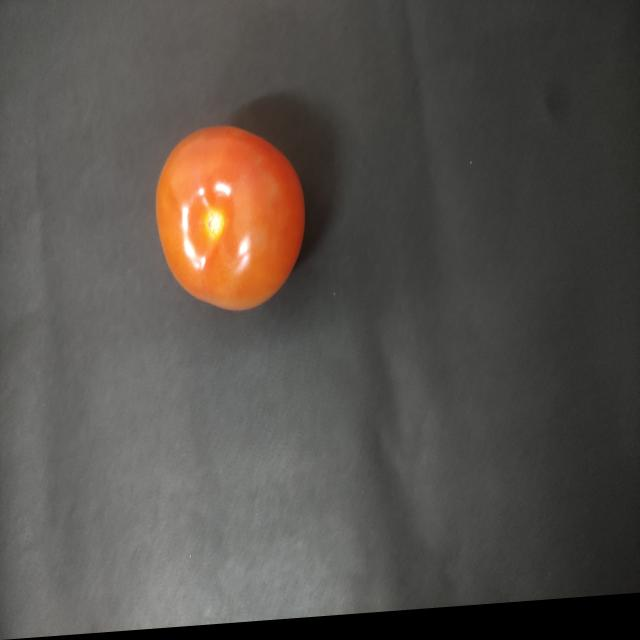sari: (143, 116, 320, 336)
